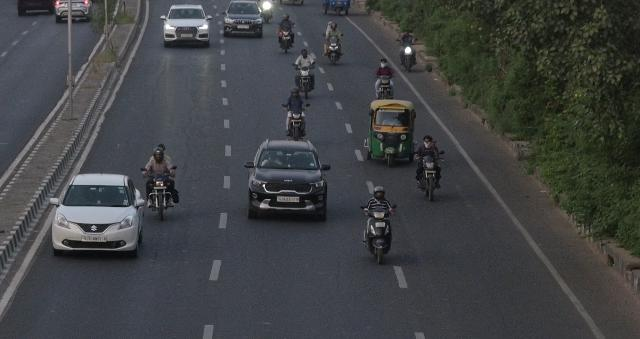With Helmet: (372, 186, 386, 202), (154, 148, 164, 164), (291, 86, 301, 98), (332, 22, 336, 30)
Without Helmet: (421, 133, 435, 147), (379, 58, 387, 68), (301, 50, 309, 58)
